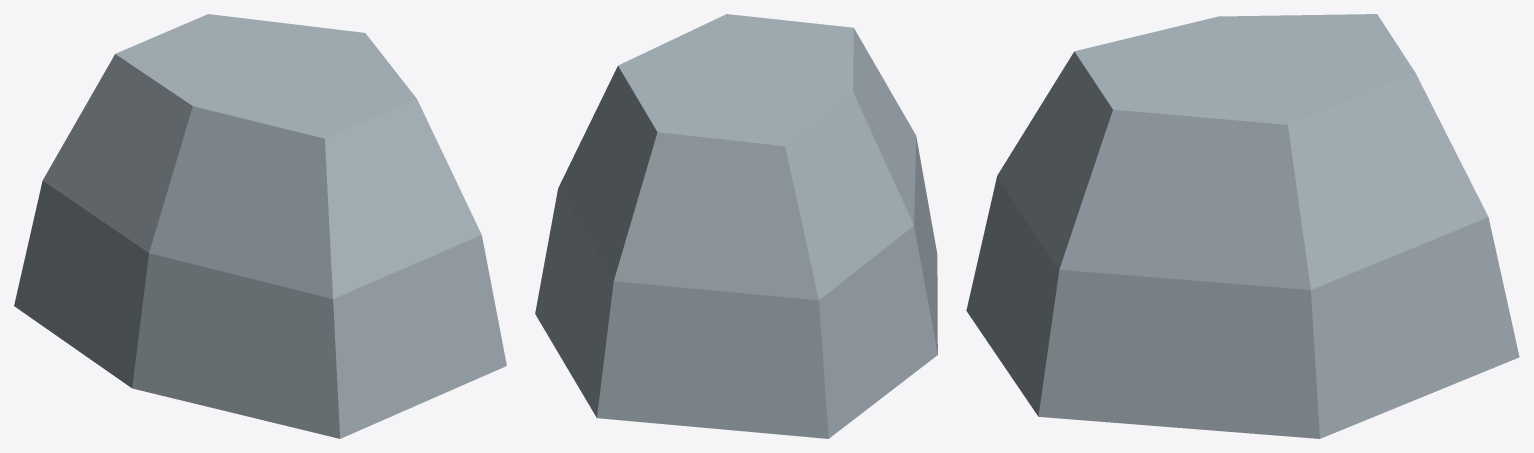
The model's file is Rock_03.fbx.
3 renders of one model, left to right at view 1: azimuth 30°, elevation 25°; view 2: azimuth 150°, elevation 25°; view 3: azimuth 270°, elevation 25°, orthographic. The views are drawn at different scales.
Visible parts, largest first — view 1: Cylinder.004; view 2: Cylinder.004; view 3: Cylinder.004.
Boxes of the visible parts, x1,y1,x2,y2 form: Cylinder.004: (14, 14, 506, 438); Cylinder.004: (535, 14, 937, 438); Cylinder.004: (966, 14, 1519, 438).
Size of the model in its own units: 2.41 by 1.68 by 3.03.
